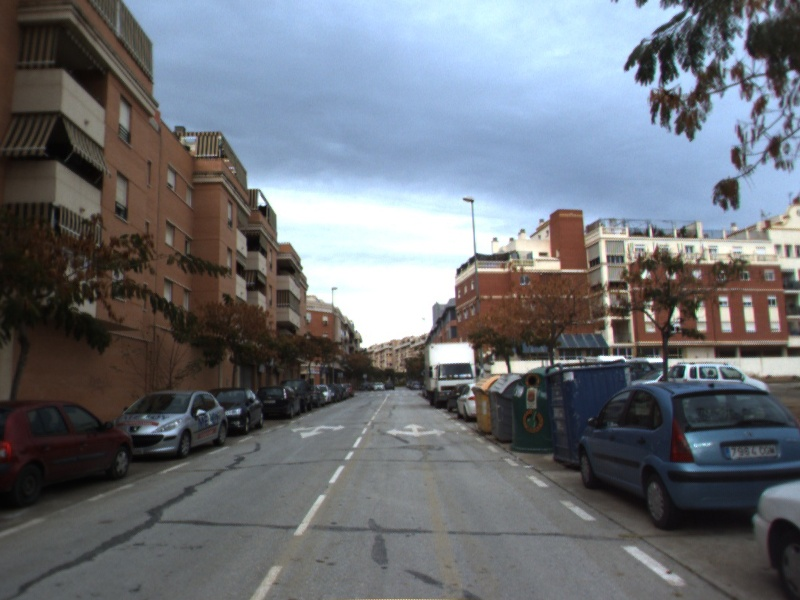STRAIGHT_LEFT_RIGHT: (384, 421, 448, 439)
